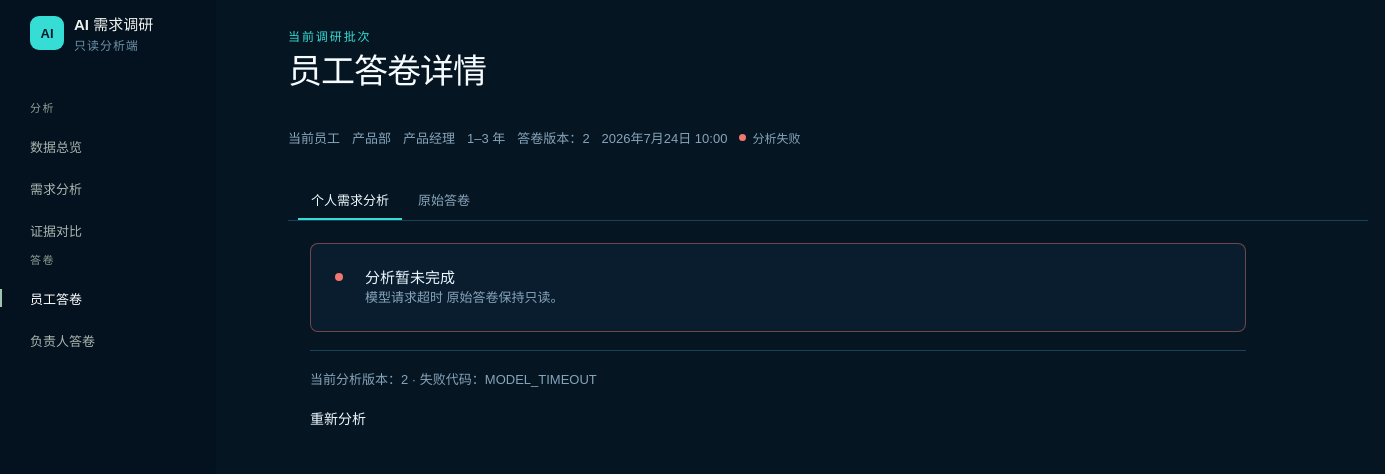
Test: 管理员重试遇到 429 时展示 Retry-After 提示并允许再次操作
Click the button "重新分析" at x=338, y=418, box [310,396,366,440]
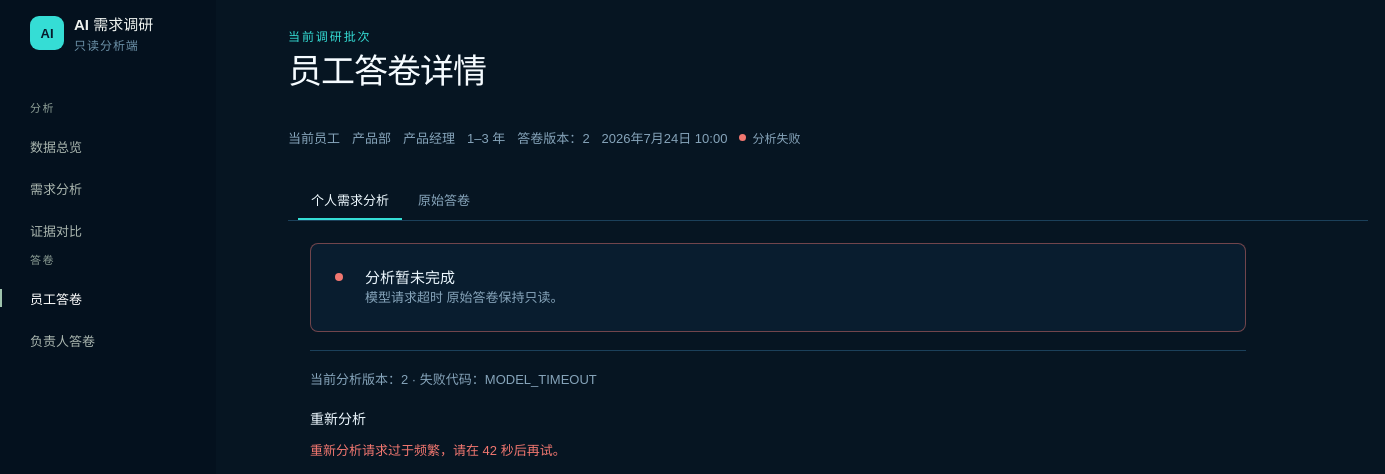
Now the text "重新分析请求过于频繁，请在 42 秒后再试。" is shown, box [310,443,566,458]
